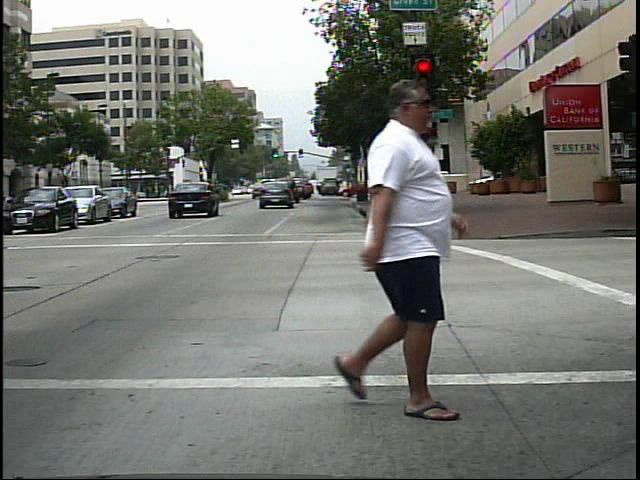person: (310, 75, 473, 423)
